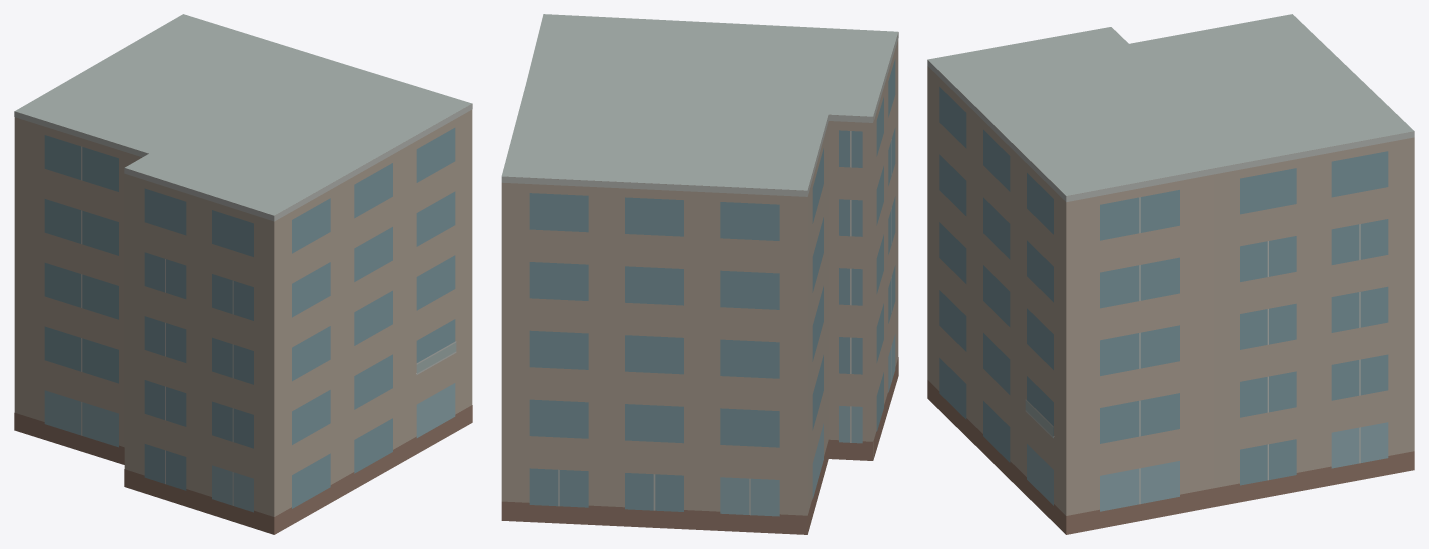
The model's file is survey-upis-32991590.glb.
3 views of the same model, side by side, from view 1: azimuth 30°, elevation 25°; view 2: azimuth 150°, elevation 25°; view 3: azimuth 270°, elevation 25° (orthographic). The views are drawn at different scales.
Parts seen in each view (by area): view 1: survey-upis-32991590.tmp; view 2: survey-upis-32991590.tmp; view 3: survey-upis-32991590.tmp.
Boxes of the visible parts, box(x1,y1,x2,y2) form: survey-upis-32991590.tmp: box(14, 14, 472, 534); survey-upis-32991590.tmp: box(501, 14, 898, 534); survey-upis-32991590.tmp: box(927, 14, 1414, 534).
Bounding box in the file's own units: 15.45 × 13.4 × 17.48.
